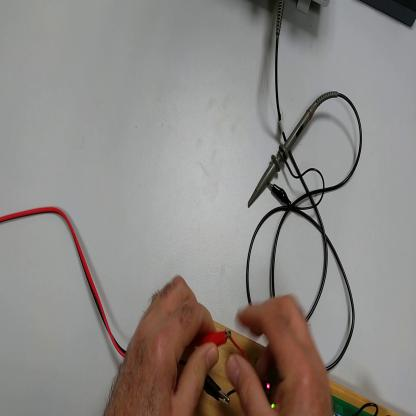hand: (105, 272, 220, 416), (228, 295, 334, 414)
high voltage board: (226, 332, 378, 415)
oscilloscope: (295, 1, 330, 19)
oscilloscope probe tip: (246, 96, 326, 211)
working area: (176, 315, 397, 416)
